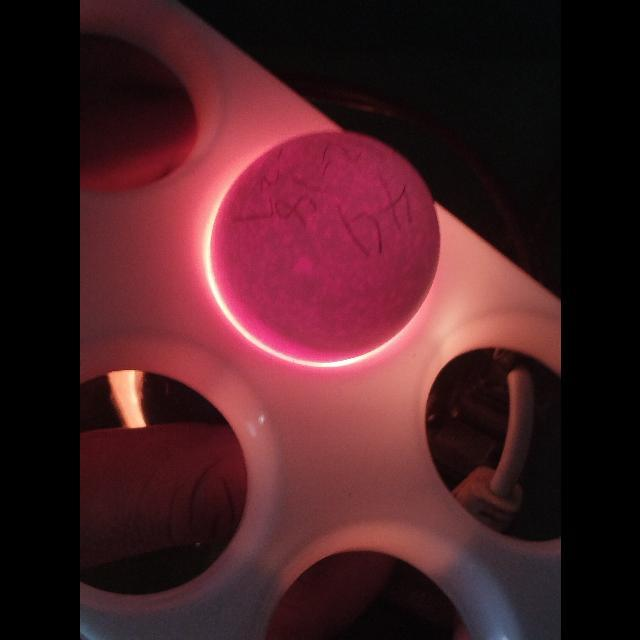Fertile: (211, 124, 441, 363)
